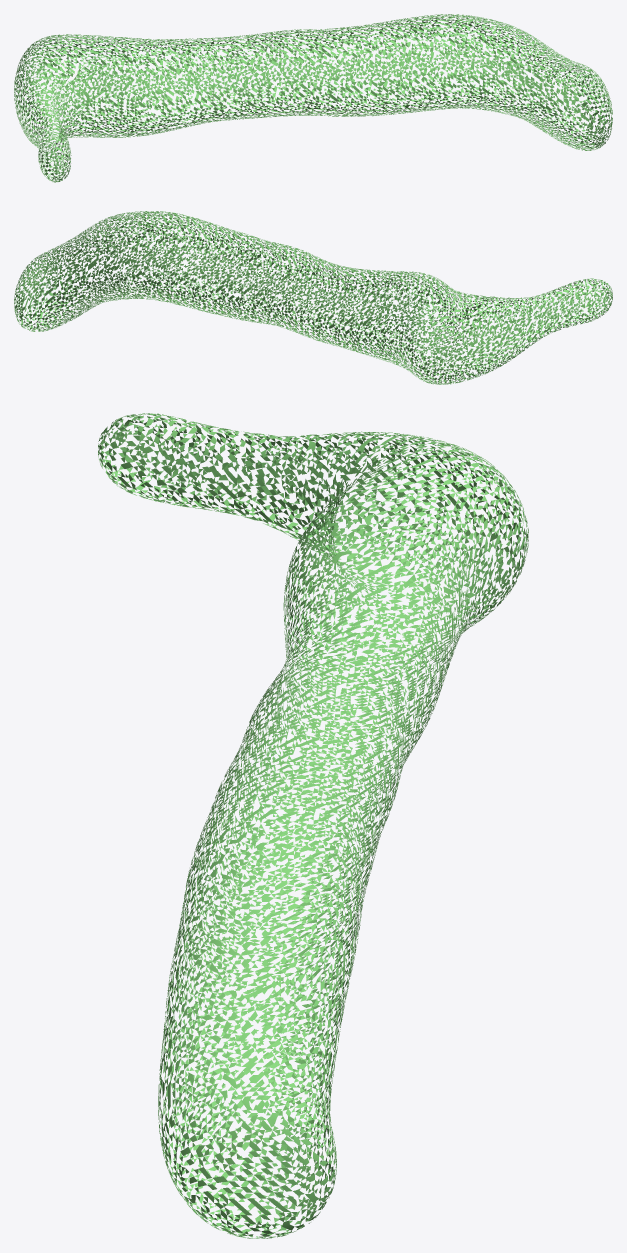
File: morph_016.glb
The picture shows the model from 3 angles, top to bottom: view 1: azimuth 30°, elevation 25°; view 2: azimuth 150°, elevation 25°; view 3: azimuth 270°, elevation 25°; orthographic projection. The views are drawn at different scales.
Bounding box in the file's own units: 142 × 43.3 × 48.
